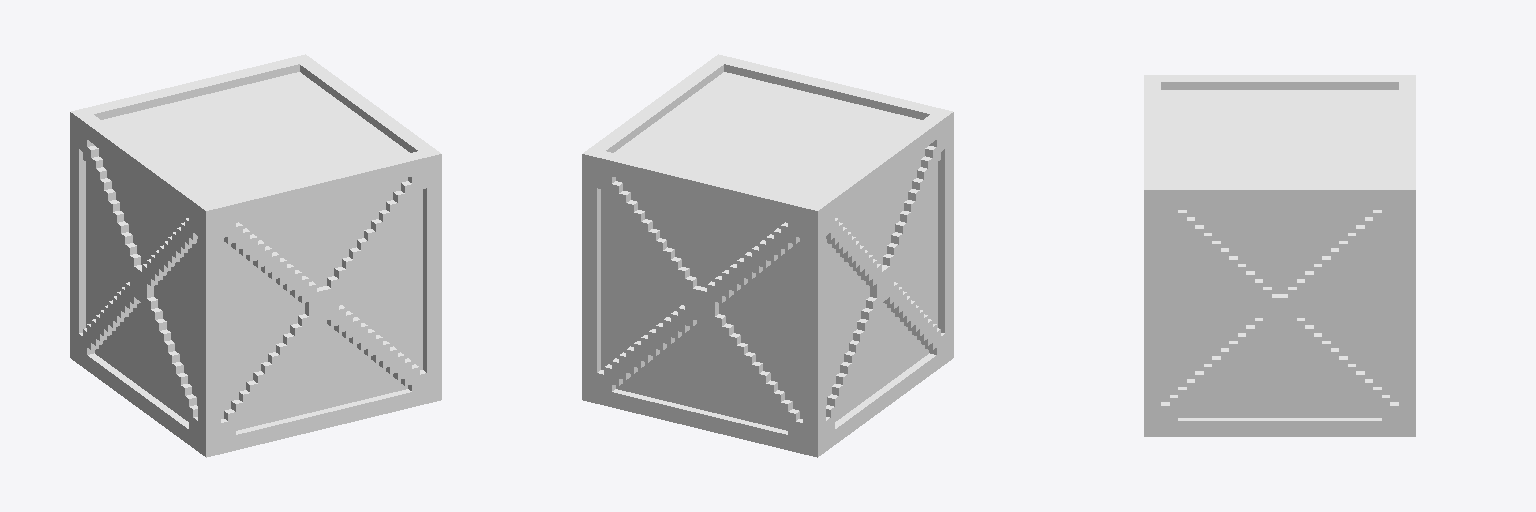
The model's file is CrateCrosses.obj.
The picture shows the model from 3 angles: view 1: azimuth 30°, elevation 25°; view 2: azimuth 150°, elevation 25°; view 3: azimuth 270°, elevation 25°; orthographic projection.
Parts seen in each view (by area): view 1: object 1; view 2: object 1; view 3: object 1.
Boxes of the visible parts, <box> form: object 1: <box>70,54,441,457</box>; object 1: <box>582,54,953,457</box>; object 1: <box>1144,75,1415,436</box>.
Bounding box in the file's own units: 3.2 × 3.2 × 3.2.